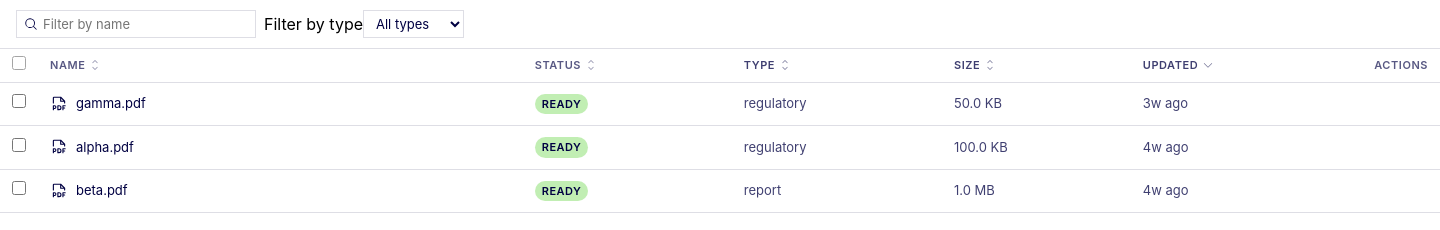
Test case: FileList › per-row checkbox toggles selection without opening the panel
The image size is (1440, 230).
Expected: the text "alpha.pdf" is shown, [76,138,134,157]
Click the checkbox named "Select alpha.pdf". click: (19, 144)
box: [12,138,26,152]
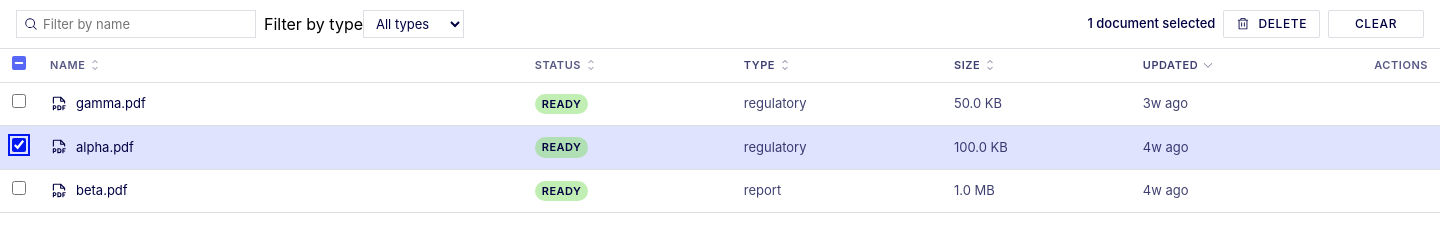
Expected: the text "1 document selected" is shown, [1087,14,1215,34]
